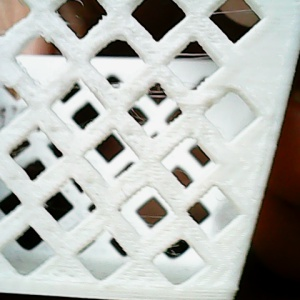3dpstringing: (169, 49, 222, 66), (132, 87, 170, 108), (128, 214, 170, 232), (208, 5, 261, 16), (163, 244, 185, 263), (129, 112, 149, 127)
